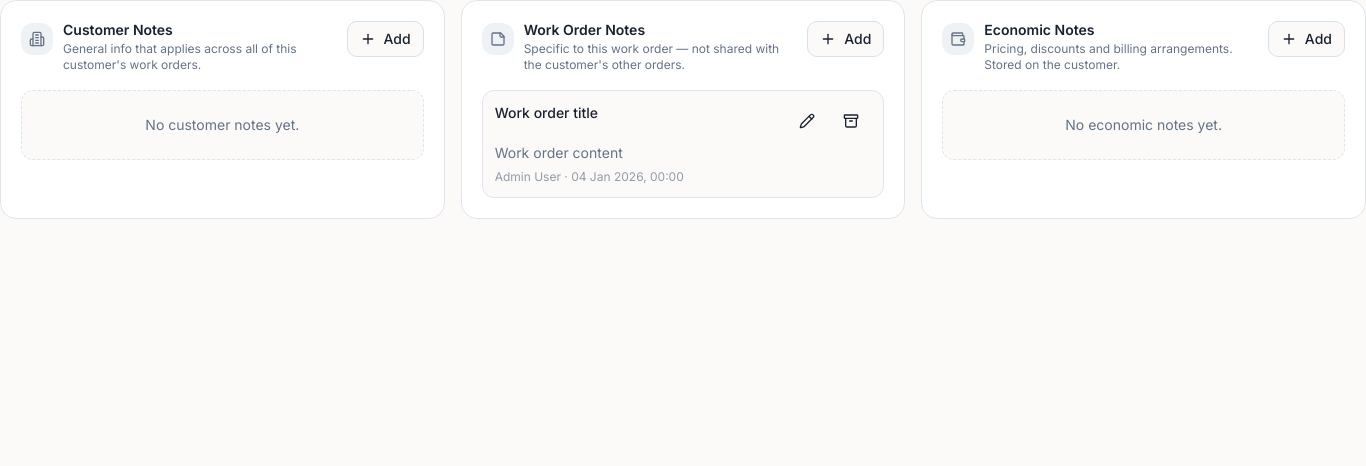
Scenario: CORE-WRITES-CUSTOMERS-A1.5.1 WorkOrderDetails customer/economic notes › keeps the customer note composer open and shows an inline error when Supabase save fails
Expected: the text "Customer Notes" is shown, [63,21,173,38]
Click the 1st button "Add": [385, 39] box [346,21,424,57]
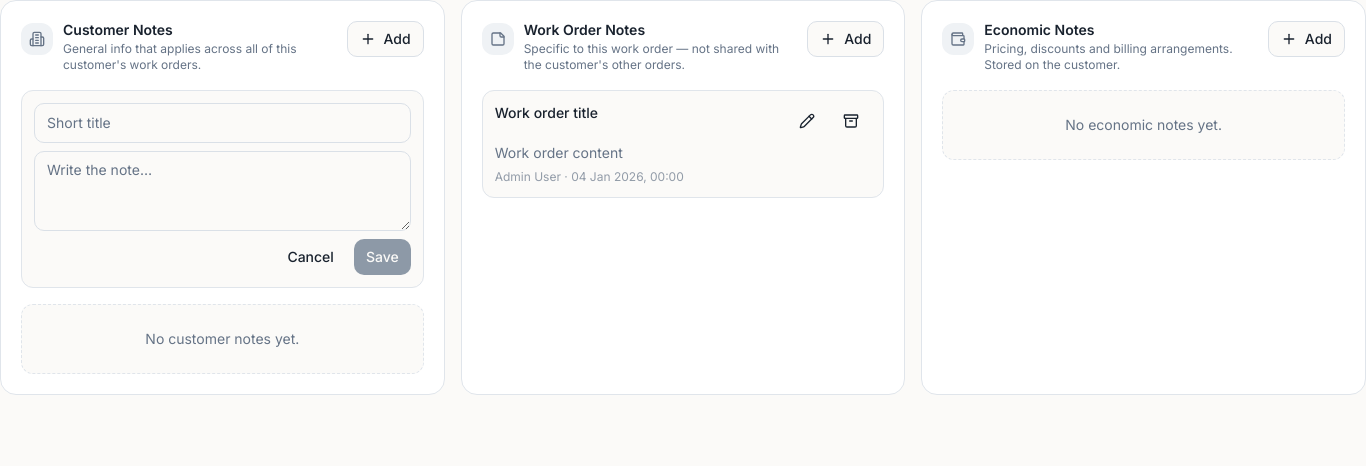
In the field with placeholder "Short title": [222, 122] box [34,102,411,142], type "Retry note"
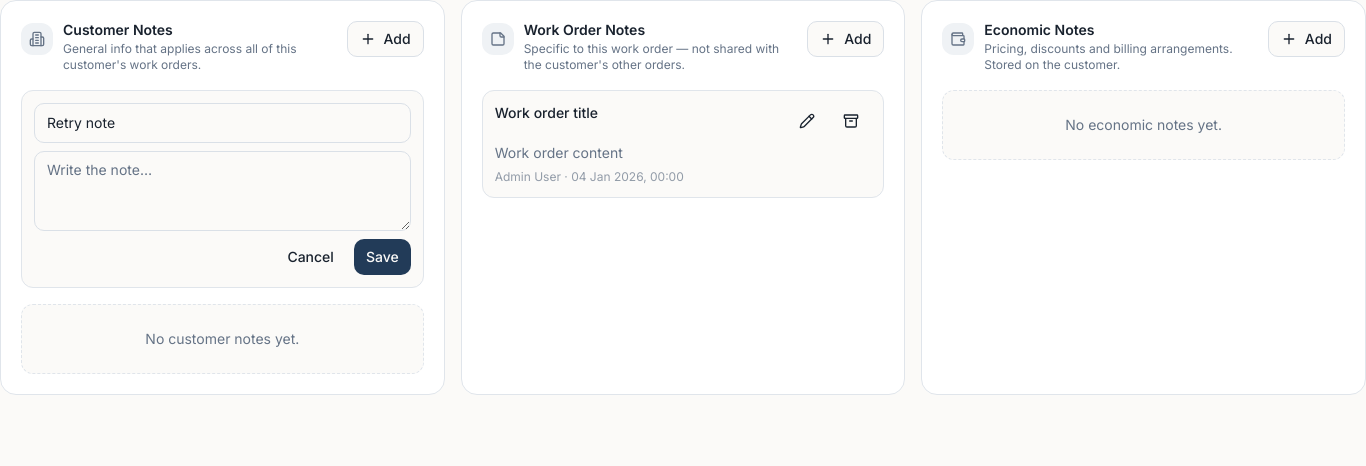
Click the button "Save": [382, 256] box [354,238,411,274]
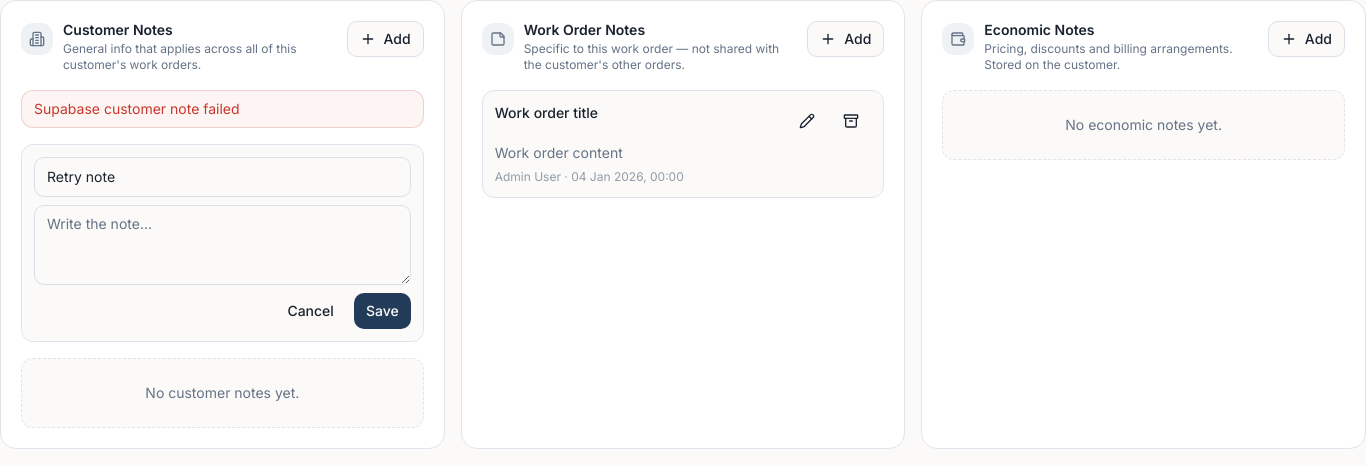
Expected: the message reads "Supabase customer note failed", [34,100,240,116]
